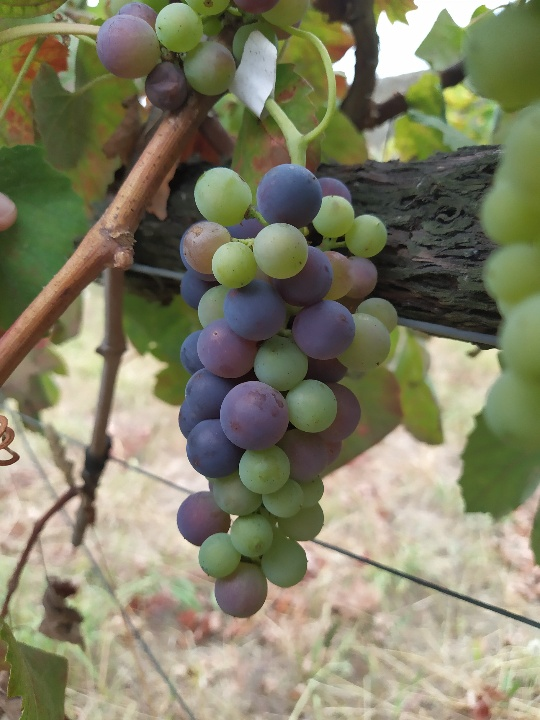grape: (174, 162, 400, 621)
